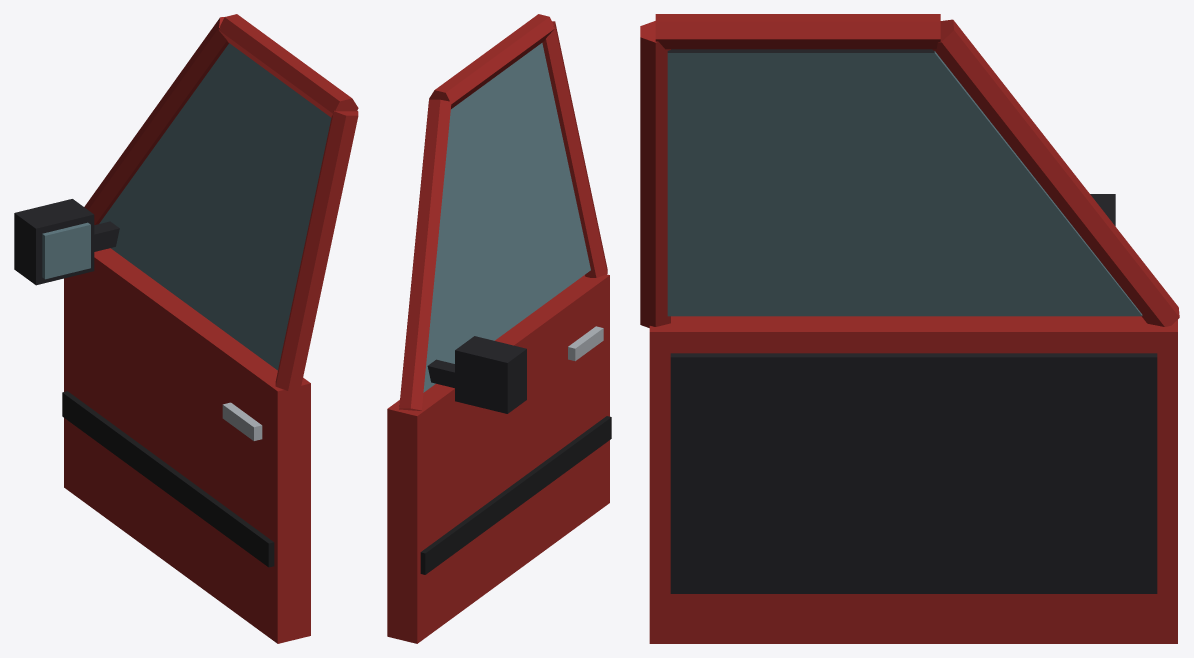
The model's file is car_door_red.glb.
The picture shows the model from 3 angles, left to right: view 1: azimuth 30°, elevation 25°; view 2: azimuth 150°, elevation 25°; view 3: azimuth 270°, elevation 25°; orthographic projection. The views are drawn at different scales.
Visible parts, largest first — view 1: door_L; view 2: door_L; view 3: door_L.
Part boxes in pixels (x1,y1,x2,y2): door_L: [14, 14, 358, 643]; door_L: [387, 14, 611, 643]; door_L: [640, 14, 1179, 643].
Size of the model in its own units: 0.38 by 1.21 by 0.9089.
Materials: 2 (2 with a texture image).
